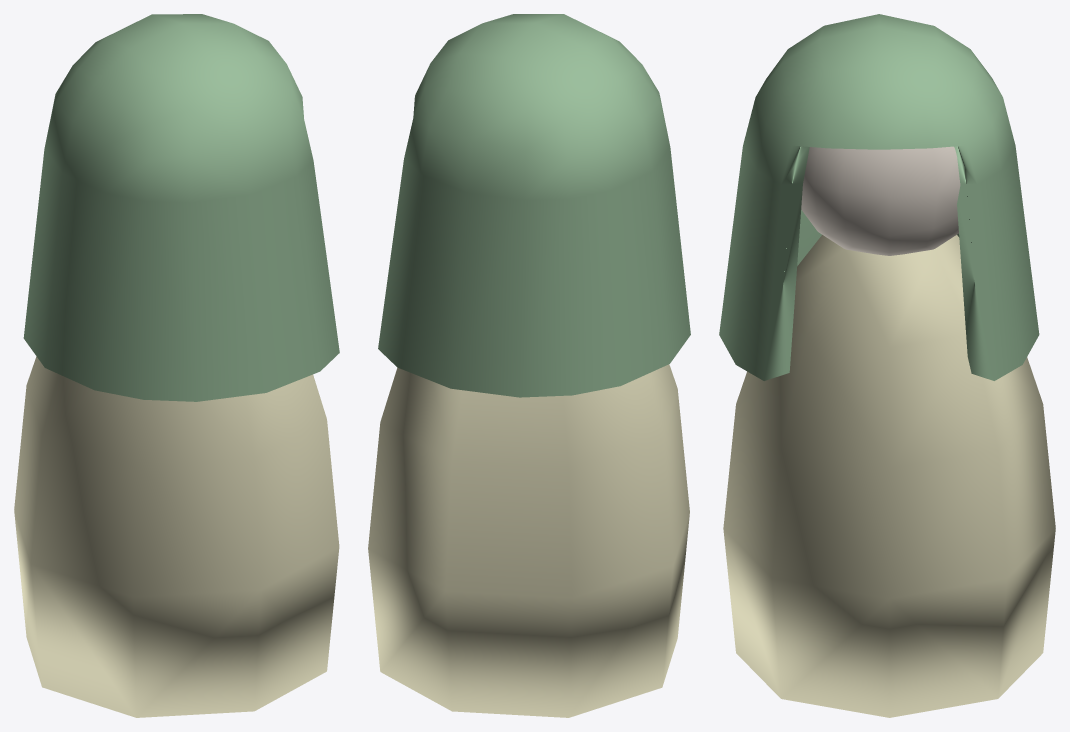
Rendered from Woman_C.fbx.
The picture shows the model from 3 angles, left to right: view 1: azimuth 30°, elevation 25°; view 2: azimuth 150°, elevation 25°; view 3: azimuth 270°, elevation 25°; orthographic projection.
Visible parts, largest first — view 1: polySurface2; view 2: polySurface2; view 3: polySurface2.
Part boxes in pixels (x1,y1,x2,y2): polySurface2: (14, 14, 339, 717); polySurface2: (368, 14, 690, 717); polySurface2: (719, 14, 1055, 717).
Bounding box in the file's own units: 0.35 × 0.7277 × 0.3545.
